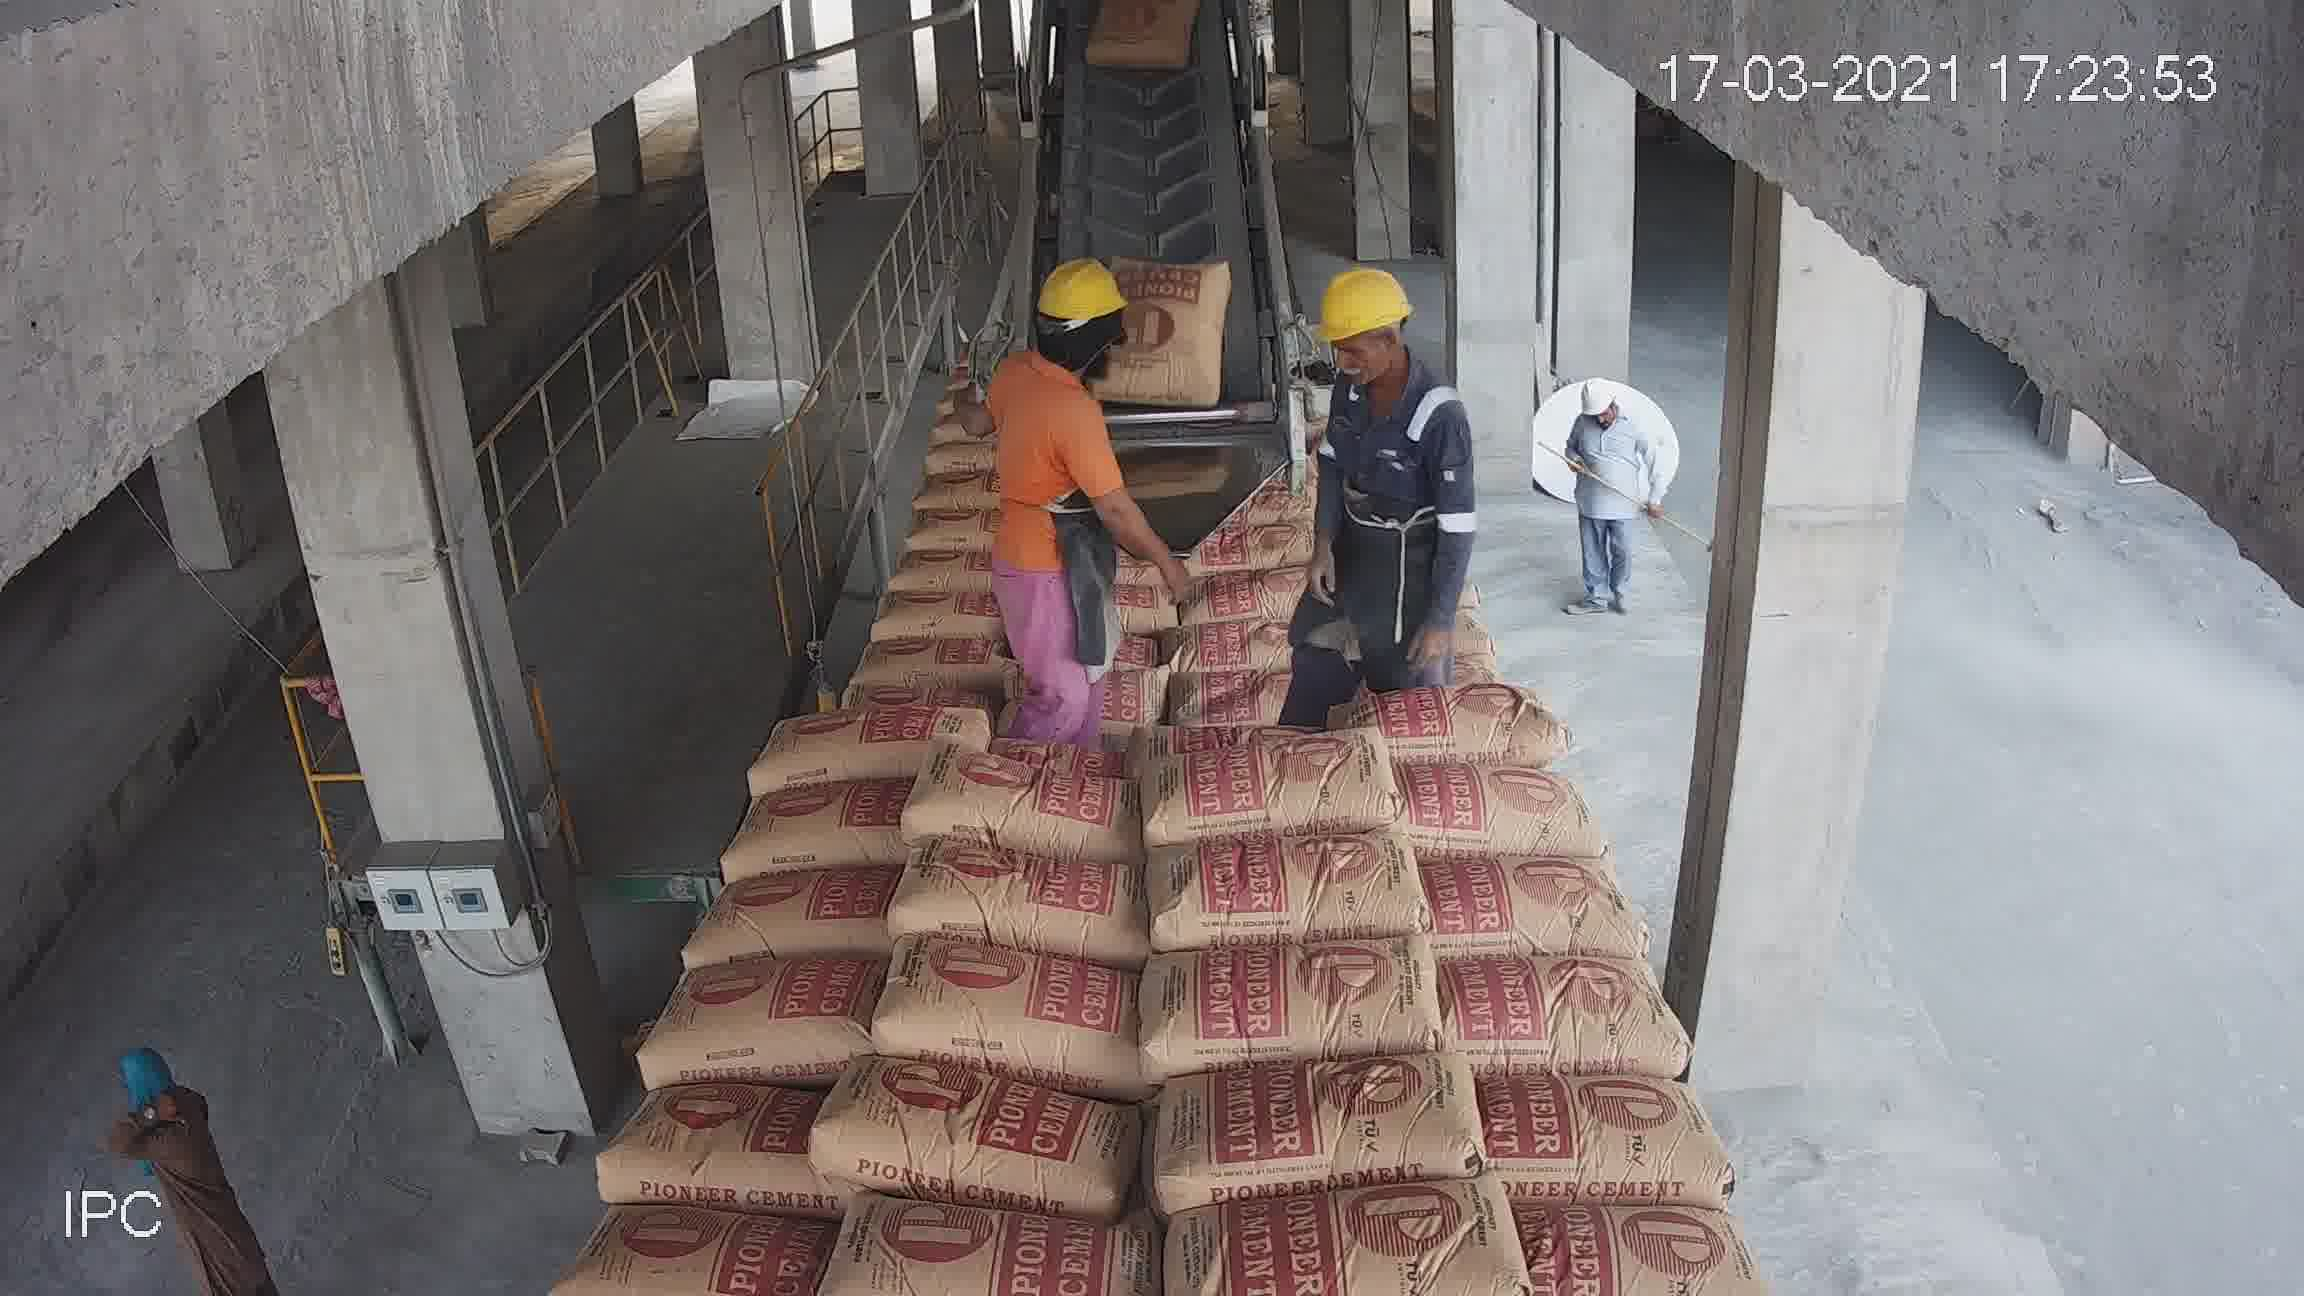bag: (1098, 41, 1192, 123)
bag_h: (1154, 1044, 1487, 1207), (1124, 813, 1412, 953), (870, 938, 1157, 1078), (798, 1078, 1130, 1196), (771, 1195, 1157, 1296), (1133, 929, 1442, 1051), (593, 1065, 836, 1215), (1147, 1195, 1519, 1291), (1459, 1076, 1707, 1207), (646, 953, 885, 1086), (1492, 1188, 1764, 1296), (1150, 726, 1374, 851), (1124, 663, 1412, 758), (567, 1207, 869, 1296), (902, 864, 1157, 964), (1438, 836, 1627, 964), (1462, 954, 1692, 1052), (728, 771, 923, 881), (688, 862, 889, 965), (923, 766, 1139, 856), (1179, 578, 1394, 668), (1396, 750, 1600, 840), (752, 703, 942, 793), (1152, 529, 1385, 600), (937, 668, 1128, 752), (962, 606, 1147, 690), (786, 631, 949, 725), (1381, 677, 1563, 758), (1158, 476, 1336, 551), (1374, 627, 1544, 701), (954, 560, 1152, 619), (812, 525, 956, 593), (984, 503, 1146, 562), (1369, 574, 1533, 628), (1293, 408, 1427, 472), (1353, 525, 1487, 585), (798, 595, 956, 646), (1317, 446, 1445, 500), (1052, 460, 1192, 506), (1044, 424, 1179, 464), (1285, 320, 1399, 366), (1321, 342, 1407, 397), (1312, 381, 1424, 421), (1060, 394, 1161, 437), (1347, 491, 1457, 525)
belt: (1029, 11, 1266, 310)
